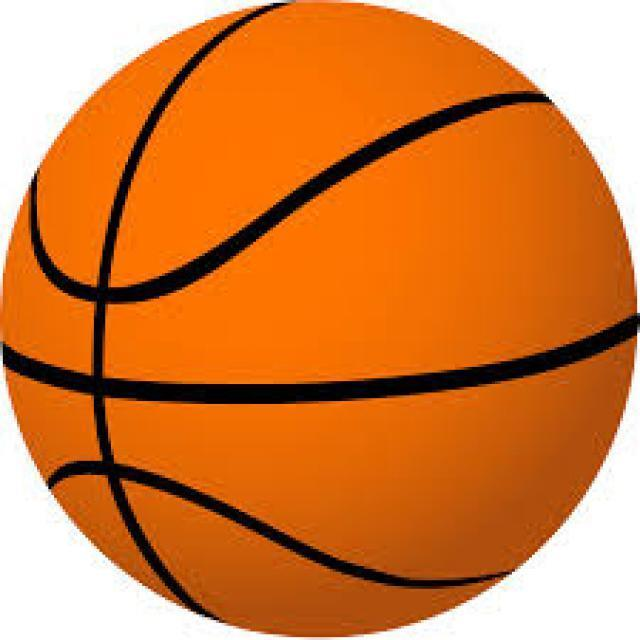basketball: (5, 7, 632, 636)
